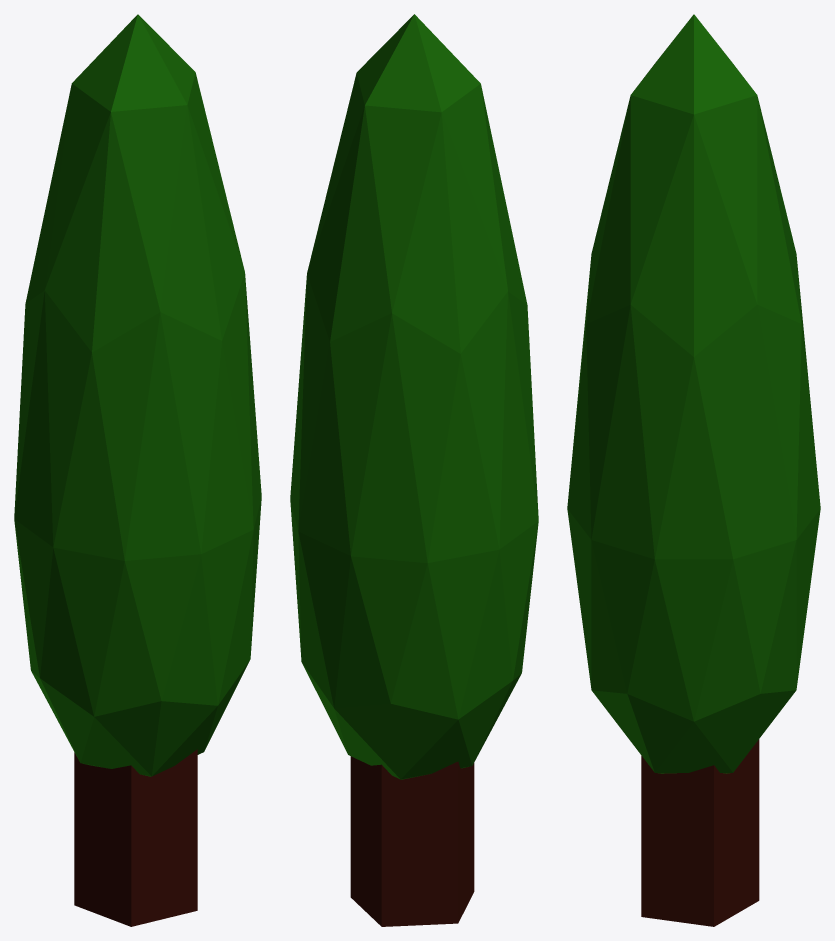
File: Little tree.FBX
The picture shows the model from 3 angles, left to right: view 1: azimuth 30°, elevation 25°; view 2: azimuth 150°, elevation 25°; view 3: azimuth 270°, elevation 25°; orthographic projection.
Visible parts, largest first — view 1: Small tree; view 2: Small tree; view 3: Small tree.
Boxes of the visible parts, x1,y1,x2,y2 form: Small tree: (14,14,261,926); Small tree: (290,14,538,926); Small tree: (567,14,820,926).
Size of the model in its own units: 0.5048 by 2.05 by 0.5308.
